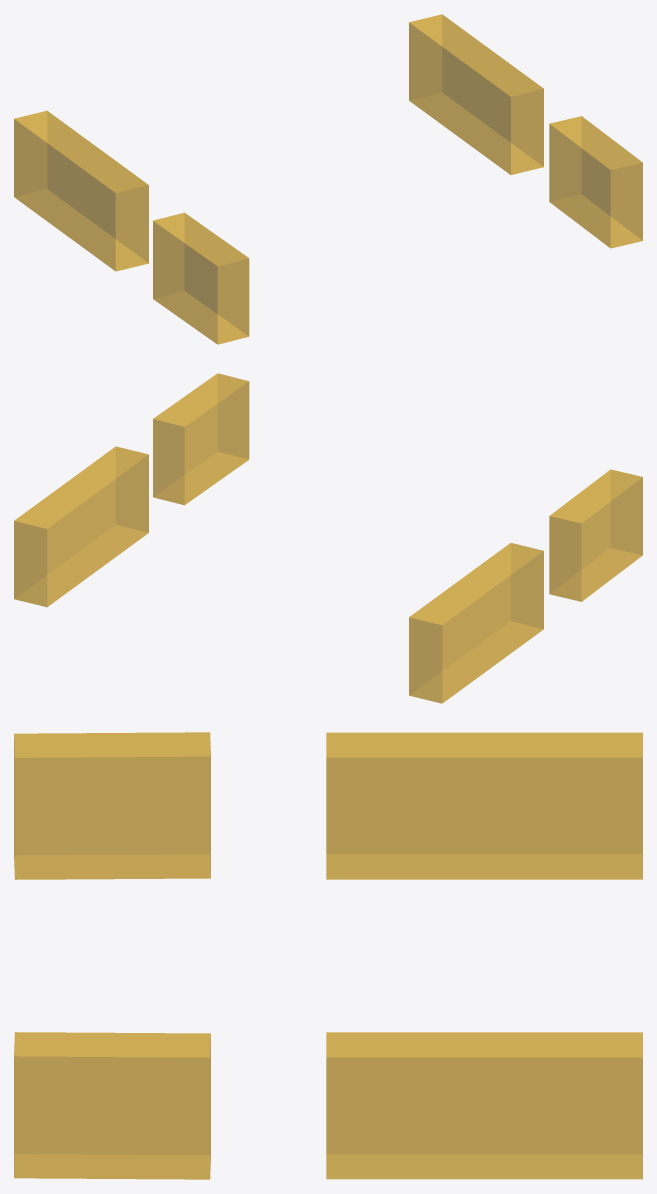
File: SM_Veh_Ship_M_Middle_02_Collision.fbx
3 views of the same model, one above another, from view 1: azimuth 30°, elevation 25°; view 2: azimuth 150°, elevation 25°; view 3: azimuth 270°, elevation 25° (orthographic). The views are drawn at different scales.
Visible parts, largest first — view 1: SM_Veh_Ship_M_Middle_02_Collision; view 2: SM_Veh_Ship_M_Middle_02_Collision; view 3: SM_Veh_Ship_M_Middle_02_Collision.
Part boxes in pixels (x1,y1,x2,y2): SM_Veh_Ship_M_Middle_02_Collision: (14, 14, 642, 344); SM_Veh_Ship_M_Middle_02_Collision: (14, 373, 642, 703); SM_Veh_Ship_M_Middle_02_Collision: (14, 732, 642, 1179).
Bounding box in the file's own units: 716 × 125 × 585.
